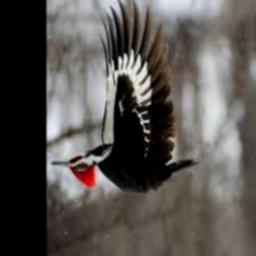Woodpecker: (50, 2, 198, 192)
